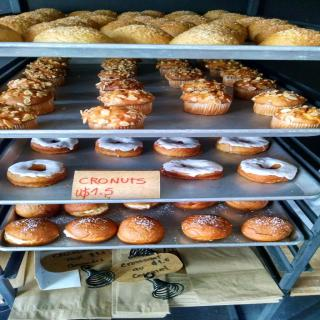Doughnut: (62, 211, 117, 243), (5, 160, 64, 189), (242, 156, 293, 184), (161, 158, 225, 180), (91, 137, 145, 157), (27, 139, 80, 157), (153, 138, 203, 157), (219, 137, 269, 156)
